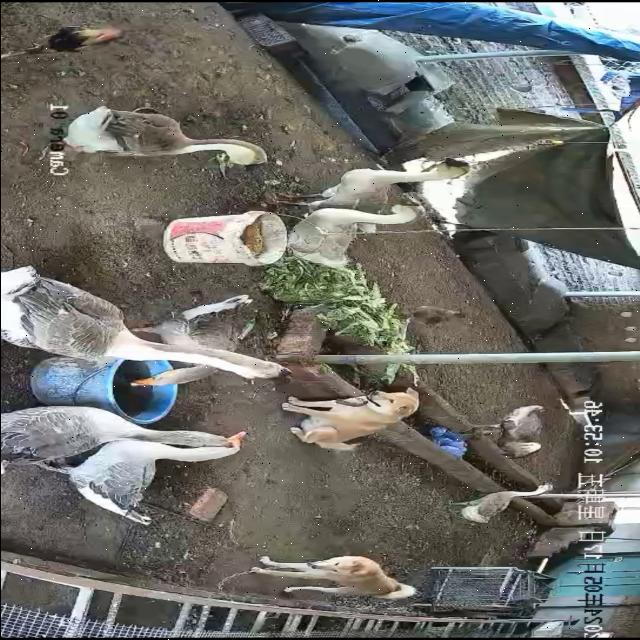dog: (281, 389, 421, 453), (250, 556, 418, 601)
